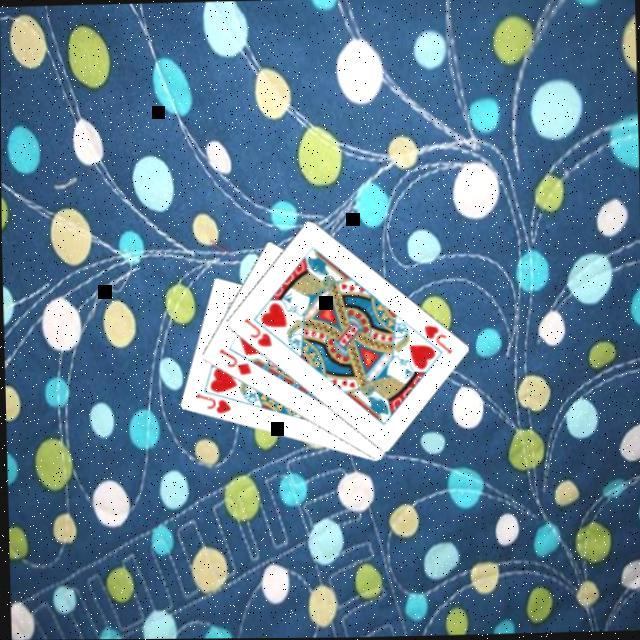JD: (214, 345, 253, 379)
JH: (420, 322, 455, 359), (240, 314, 274, 352), (193, 390, 233, 418)
